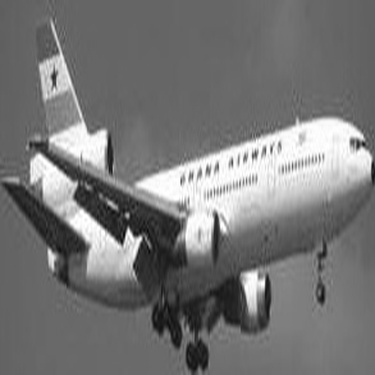airplane: (1, 4, 370, 370)
